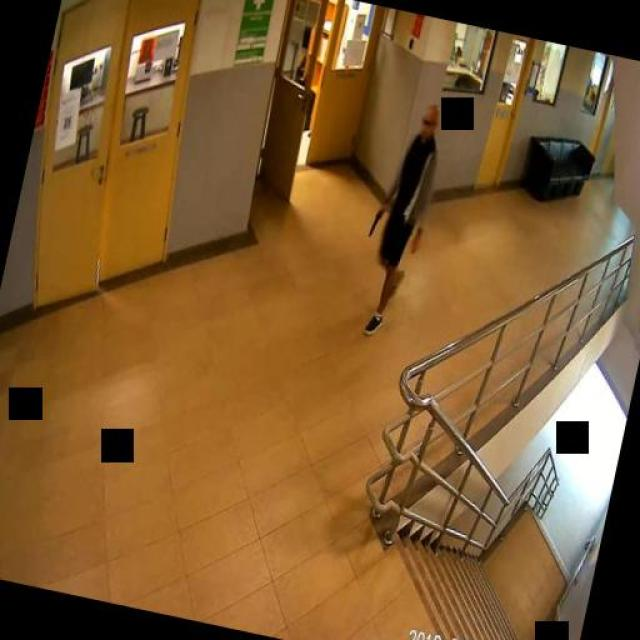gun: (365, 202, 384, 238)
